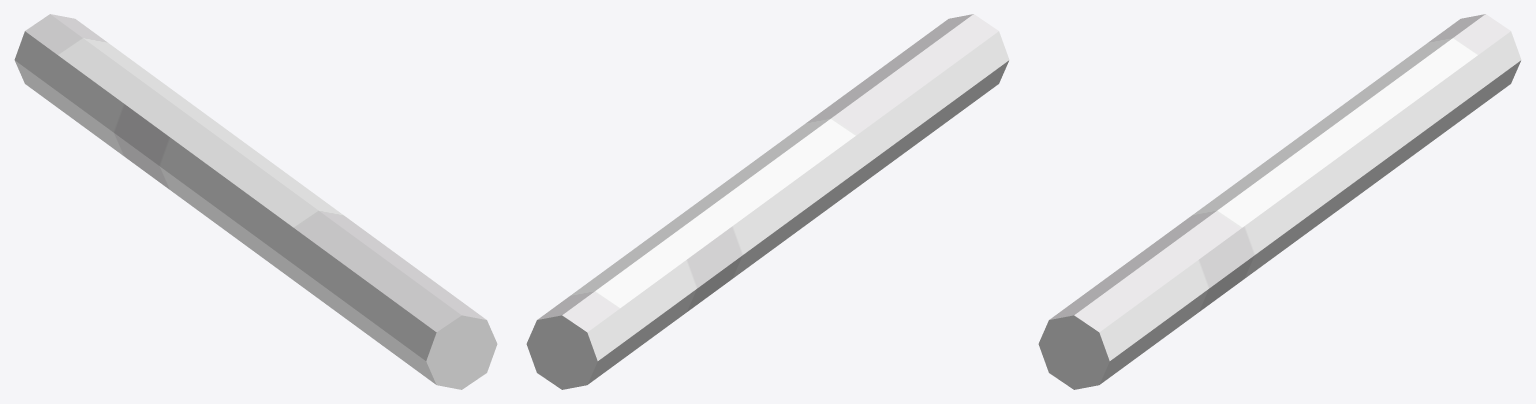
Rendered from beam.obj.
3 renders of one model, left to right at view 1: azimuth 30°, elevation 25°; view 2: azimuth 150°, elevation 25°; view 3: azimuth 330°, elevation 25°, orthographic.
Size of the model in its own units: 0.1 by 0.1 by 1.
Materials: 1 (1 with a texture image).
